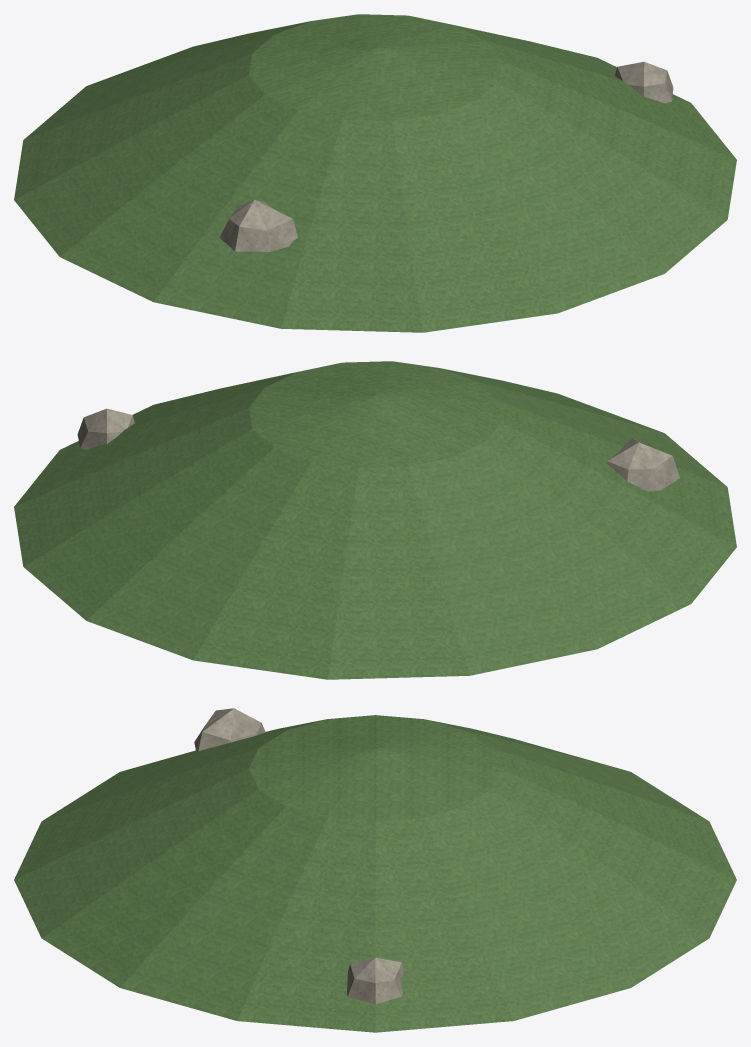
File: hill.glb
3 renders of one model, top to bottom at view 1: azimuth 30°, elevation 25°; view 2: azimuth 150°, elevation 25°; view 3: azimuth 270°, elevation 25°, orthographic.
Parts seen in each view (by area): view 1: scenery.hill; view 2: scenery.hill; view 3: scenery.hill.
Boxes of the visible parts, left/top/right/bottom form: scenery.hill: left=14, top=14, right=736, bottom=332; scenery.hill: left=14, top=361, right=736, bottom=679; scenery.hill: left=14, top=708, right=736, bottom=1032.
Bounding box in the file's own units: 20 × 4 × 20.
2 materials, 2 textured.
